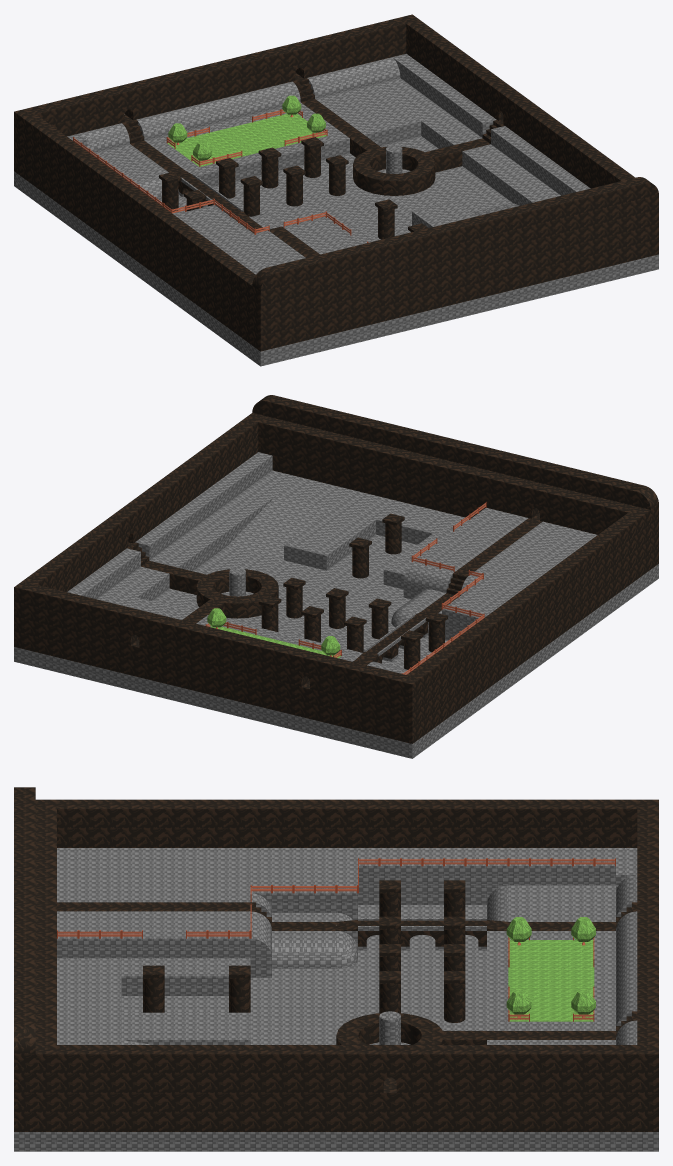
The model's file is level2.fbx.
The picture shows the model from 3 angles, top to bottom: view 1: azimuth 30°, elevation 25°; view 2: azimuth 150°, elevation 25°; view 3: azimuth 270°, elevation 25°; orthographic projection. The views are drawn at different scales.
Parts seen in each view (by area): view 1: mergedBlocks; view 2: mergedBlocks; view 3: mergedBlocks.
Part boxes in pixels (box(x1,y1,x2,y2)): mergedBlocks: box(14, 14, 658, 366); mergedBlocks: box(14, 395, 658, 758); mergedBlocks: box(14, 787, 658, 1151).
Bounding box in the file's own units: 280 × 60 × 300.
